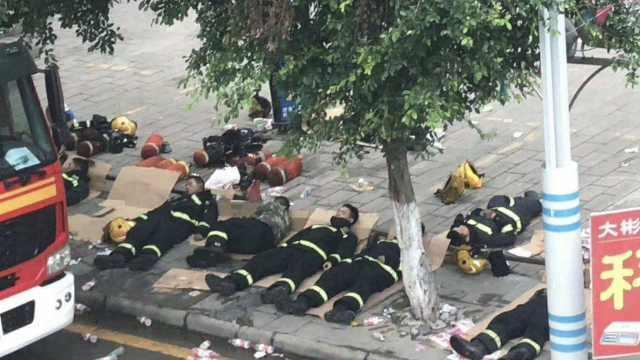Fall-Detected: (241, 135, 307, 193)
